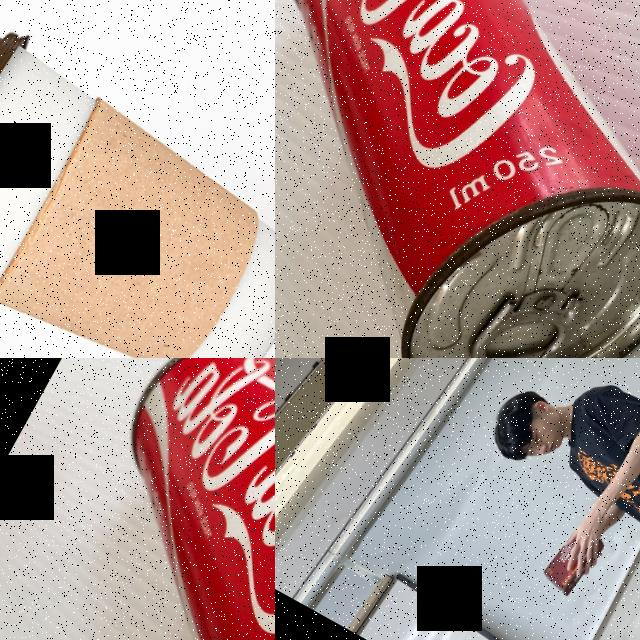can: (275, 0, 640, 358), (0, 358, 275, 640)
cup: (0, 0, 275, 358)
